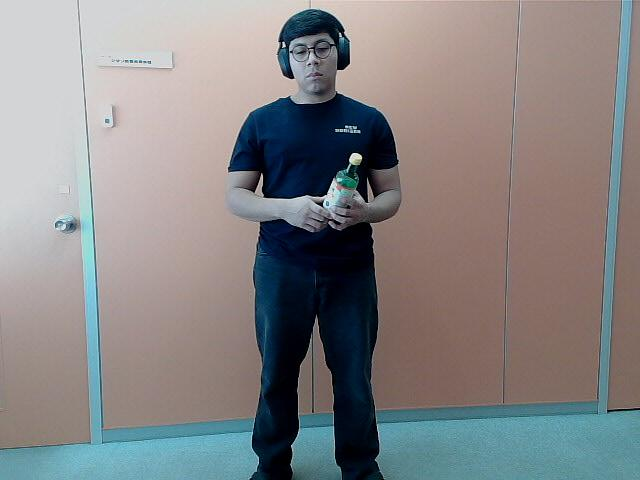Lemon_sapporo: (323, 150, 363, 216)
